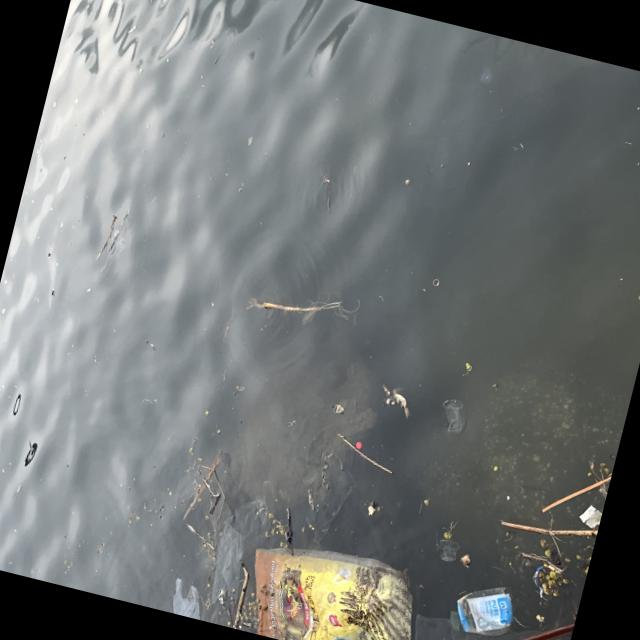foam: (577, 503, 604, 531)
